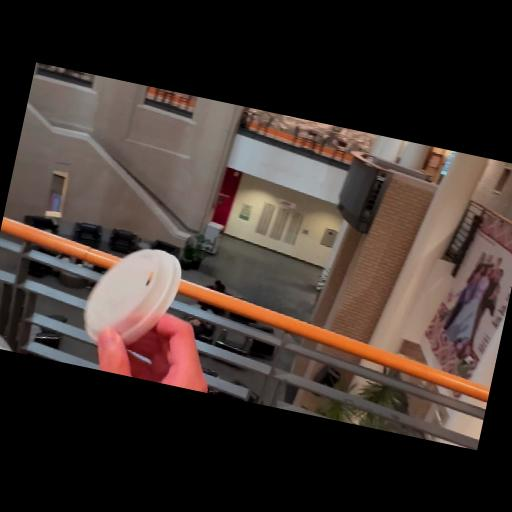lp_cup_lids: (74, 234, 189, 360)
